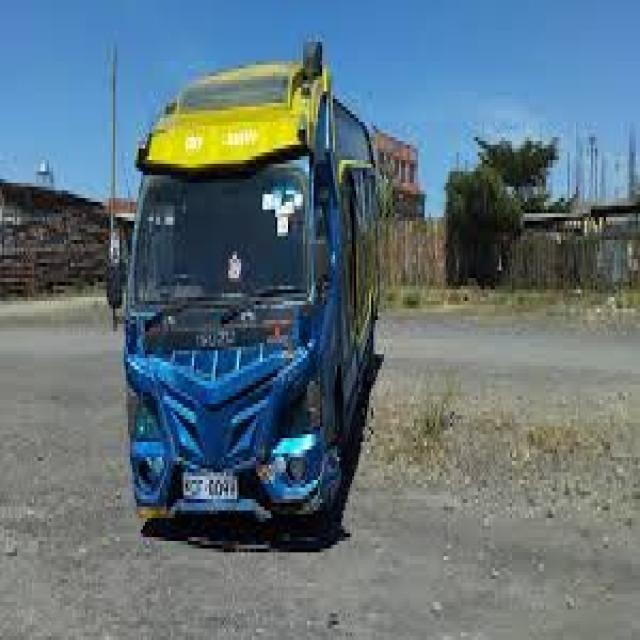bus: (49, 10, 433, 558)
